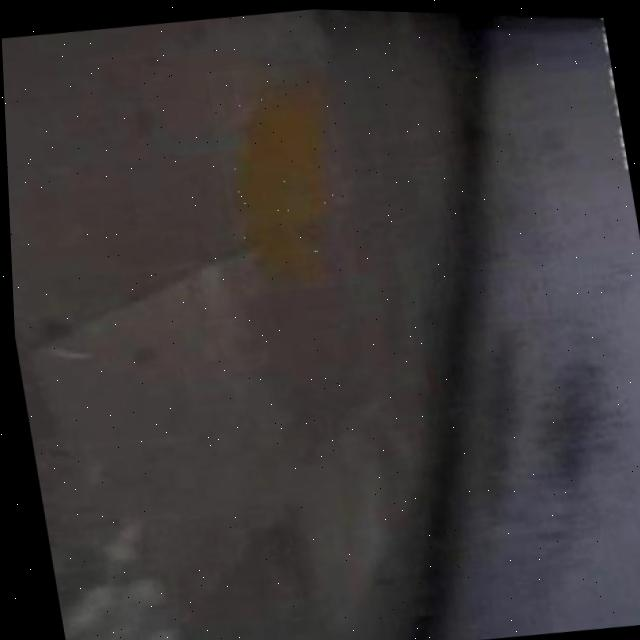spillage: (226, 60, 334, 285)
